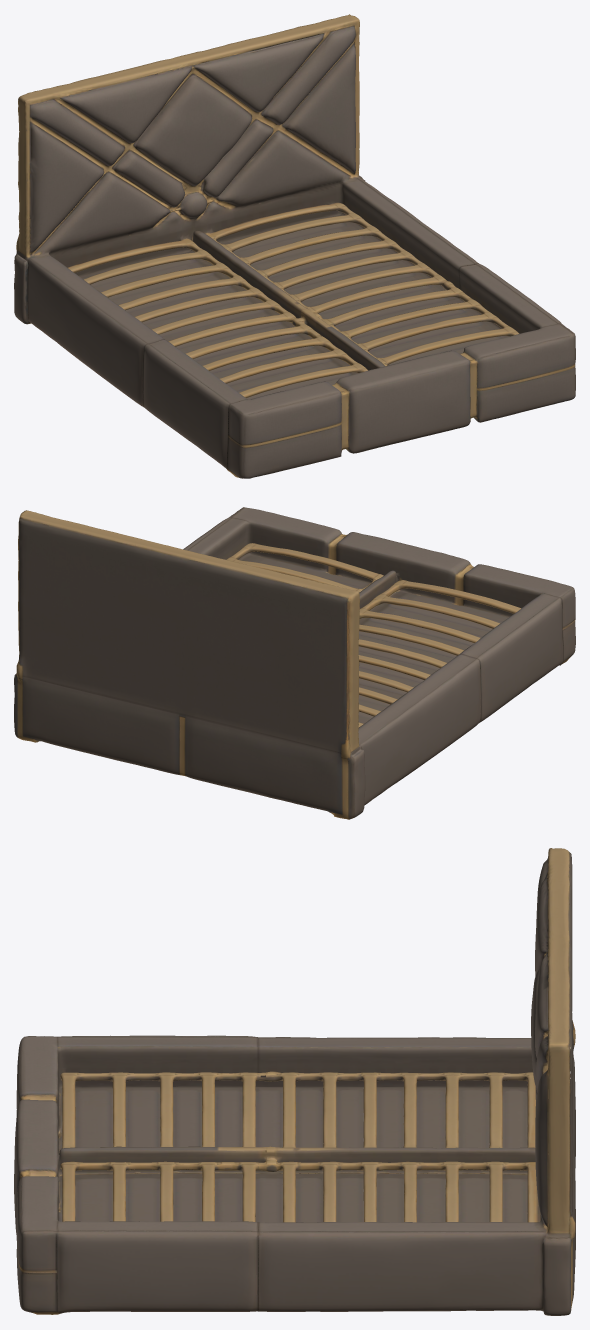
File: Magic Extra.glb
The picture shows the model from 3 angles, top to bottom: view 1: azimuth 30°, elevation 25°; view 2: azimuth 150°, elevation 25°; view 3: azimuth 270°, elevation 25°; orthographic projection. The views are drawn at different scales.
Visible parts, largest first — view 1: tripo_node_b68407f3; view 2: tripo_node_b68407f3; view 3: tripo_node_b68407f3.
Boxes of the visible parts, left/top/right/bottom form: tripo_node_b68407f3: left=14, top=14, right=575, bottom=478; tripo_node_b68407f3: left=14, top=507, right=575, bottom=819; tripo_node_b68407f3: left=14, top=848, right=575, bottom=1315.
Bounding box in the file's own units: 84.02 × 52.33 × 98.02.
1 material, 1 textured.
